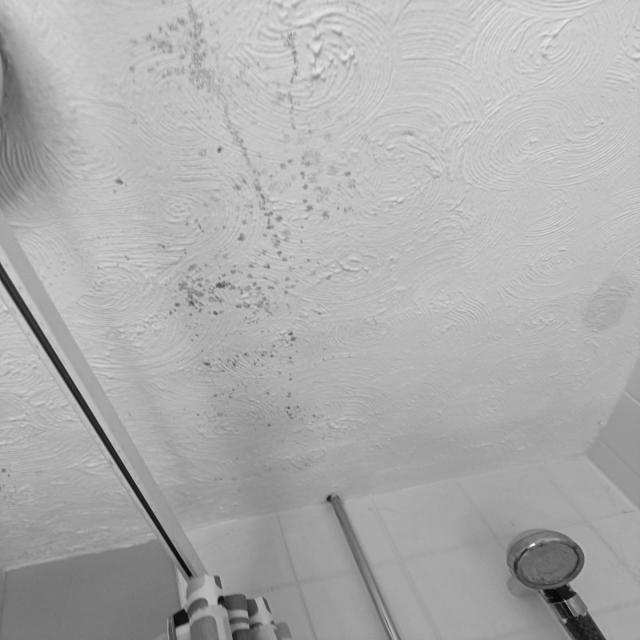stain marks: (208, 98, 308, 254), (148, 258, 310, 332), (128, 2, 233, 98), (262, 18, 327, 144), (194, 377, 316, 427), (200, 328, 312, 381), (310, 149, 374, 233), (567, 264, 637, 338)
trowels marks: (0, 6, 640, 402)
